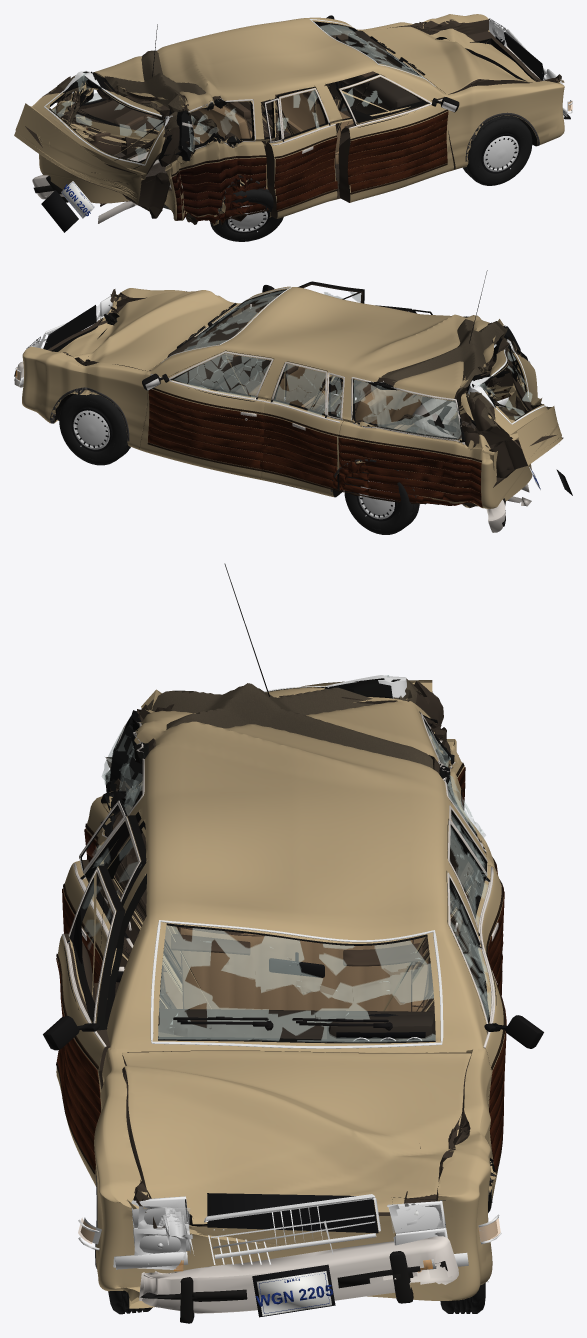
Rendered from wagon82_rear_corner_R_d2_lod1.glb.
The picture shows the model from 3 angles, top to bottom: view 1: azimuth 30°, elevation 25°; view 2: azimuth 150°, elevation 25°; view 3: azimuth 270°, elevation 25°; orthographic projection. The views are drawn at different scales.
Parts seen in each view (by area): view 1: Body, Tailgate, Interior, Trim_FR, Hood, Trim, Trim_RR, Door_FR, Wheel_FR_mesh, Ends, Glass, Door_RR (+5 smaller); view 2: Body, Trim, Trim_FL, Hood, Interior, Tailgate, Trim_RL, Glass, Wheel_FL_mesh, Door_FL, Glass_FL, Wheel_RL_mesh (+6 smaller); view 3: Body, Hood, Interior, Glass, Ends, Bumper_F, Trim_FR, Door_FR, Trim_FL, Trim, Door_RR, Door_FL (+6 smaller).
Boxes of the visible parts, x1,y1,x2,y2 form: Body: [39, 14, 564, 225]; Tailgate: [14, 71, 181, 218]; Interior: [85, 30, 422, 177]; Trim_FR: [339, 75, 459, 194]; Hood: [363, 26, 535, 94]; Trim: [79, 24, 539, 224]; Trim_RR: [264, 88, 337, 211]; Door_FR: [336, 73, 453, 202]; Wheel_FR_mesh: [463, 115, 532, 185]; Ends: [41, 18, 572, 232]; Glass: [87, 19, 435, 160]; Door_RR: [264, 87, 337, 218]; Body: [22, 286, 532, 508]; Trim: [50, 270, 529, 507]; Trim_FL: [142, 351, 273, 470]; Hood: [58, 290, 239, 370]; Interior: [167, 311, 482, 438]; Tailgate: [461, 336, 563, 478]; Trim_RL: [260, 362, 344, 489]; Glass: [160, 287, 520, 441]; Wheel_FL_mesh: [59, 394, 130, 465]; Door_FL: [140, 350, 274, 479]; Glass_FL: [170, 351, 271, 401]; Wheel_RL_mesh: [344, 464, 419, 534]; Body: [85, 683, 501, 1308]; Hood: [122, 1051, 471, 1224]; Interior: [158, 925, 435, 1041]; Glass: [101, 710, 485, 1048]; Ends: [78, 1193, 501, 1317]; Bumper_F: [139, 1236, 458, 1323]; Trim_FR: [43, 867, 115, 1174]; Door_FR: [56, 865, 125, 1186]; Trim_FL: [447, 872, 543, 1174]; Trim: [84, 563, 503, 1268]; Door_RR: [63, 815, 146, 996]; Door_FL: [446, 871, 505, 1193].
Size of the model in its own units: 4.98 by 2.08 by 2.15.
35 materials, 6 textured.
